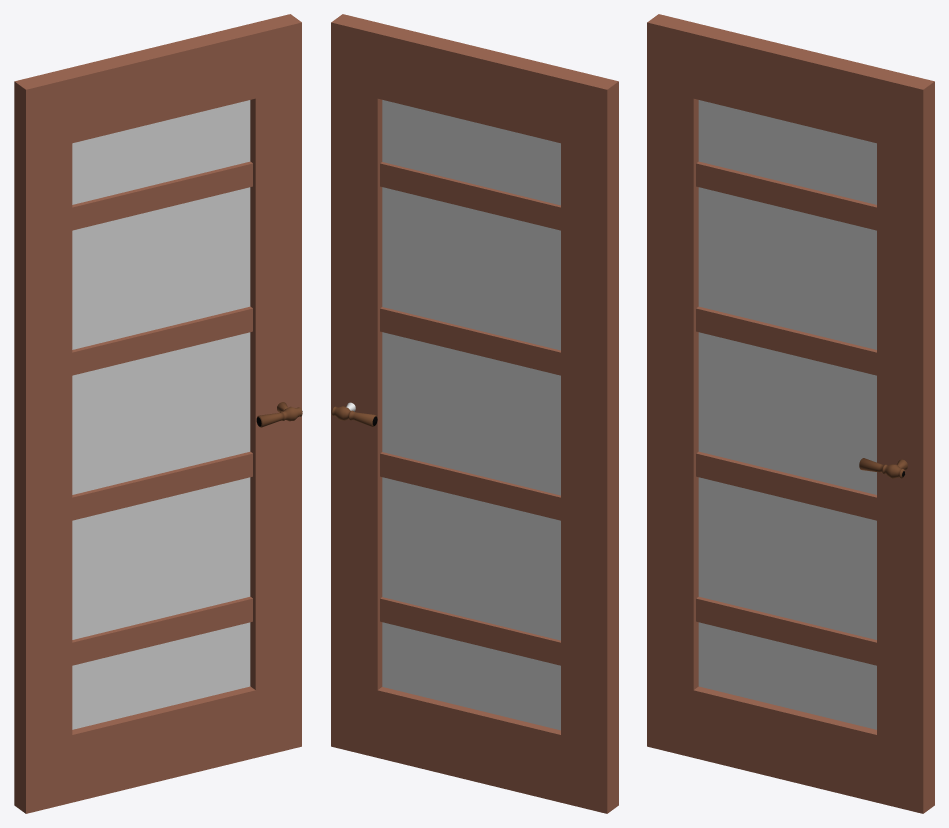
Rendered from prototype portugeese house thingies.fbx.
3 views of the same model, side by side, from view 1: azimuth 30°, elevation 25°; view 2: azimuth 150°, elevation 25°; view 3: azimuth 330°, elevation 25° (orthographic).
Visible parts, largest first — view 1: Door, glass; view 2: Door, glass, DoorHandle.002; view 3: Door, glass, DoorHandle.
Part boxes in pixels (<box>): Door: <box>14,14,301,813</box>; glass: <box>72,100,250,729</box>; Door: <box>331,14,618,813</box>; glass: <box>382,100,560,730</box>; DoorHandle.002: <box>331,406,377,426</box>; Door: <box>647,14,934,813</box>; glass: <box>698,100,876,729</box>; DoorHandle: <box>859,458,904,478</box>.
Bounding box in the file's own units: 83.66 × 210 × 19.18.
